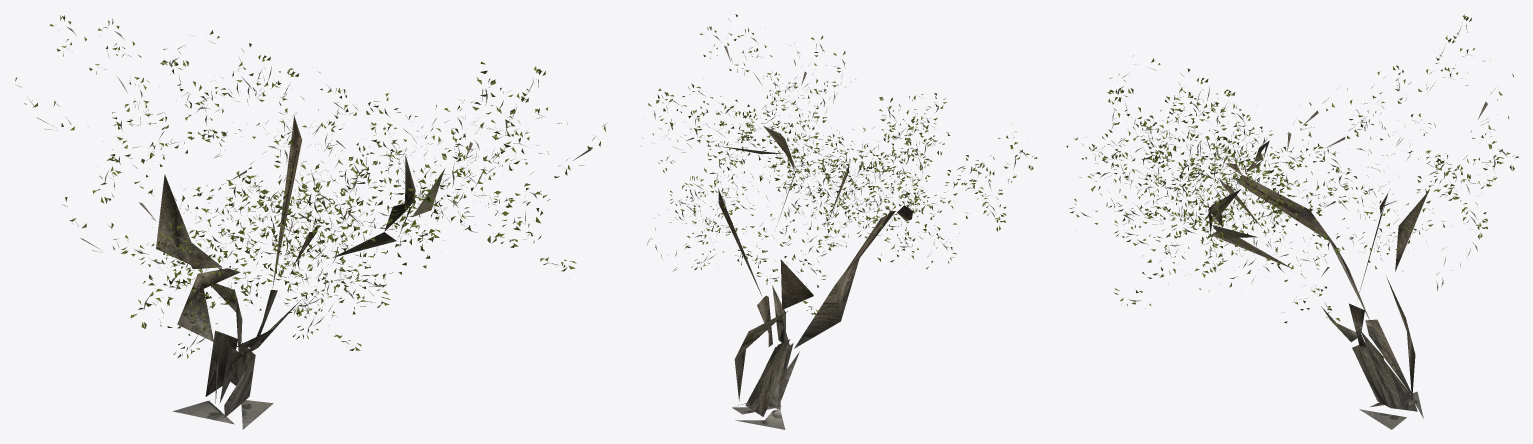
Rendered from island_tree_02_lod2.gltf.
The picture shows the model from 3 angles, left to right: view 1: azimuth 30°, elevation 25°; view 2: azimuth 150°, elevation 25°; view 3: azimuth 270°, elevation 25°; orthographic projection. The views are drawn at different scales.
Visible parts, largest first — view 1: island_tree_02_lod2; view 2: island_tree_02_lod2; view 3: island_tree_02_lod2.
Boxes of the visible parts, x1,y1,x2,y2 form: island_tree_02_lod2: (15, 15, 605, 429); island_tree_02_lod2: (640, 14, 1037, 429); island_tree_02_lod2: (1066, 14, 1518, 429).
Size of the model in its own units: 3.74 by 3.33 by 3.98.
Materials: 3 (3 with a texture image).
